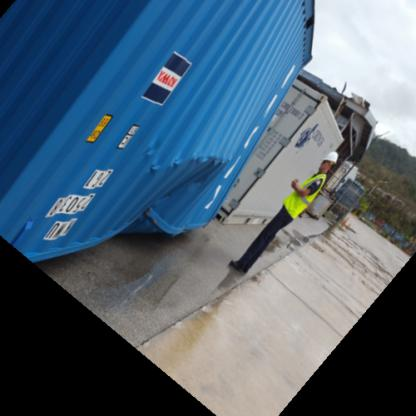Damage: (129, 134, 232, 234)
